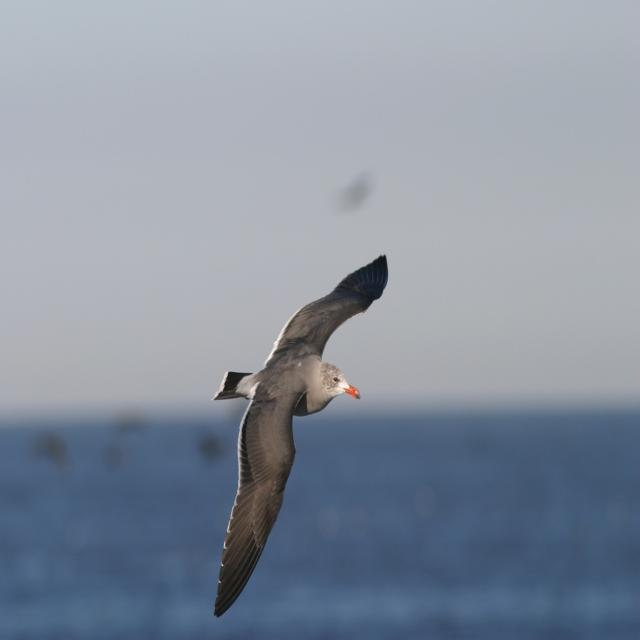bird: (210, 236, 388, 626)
